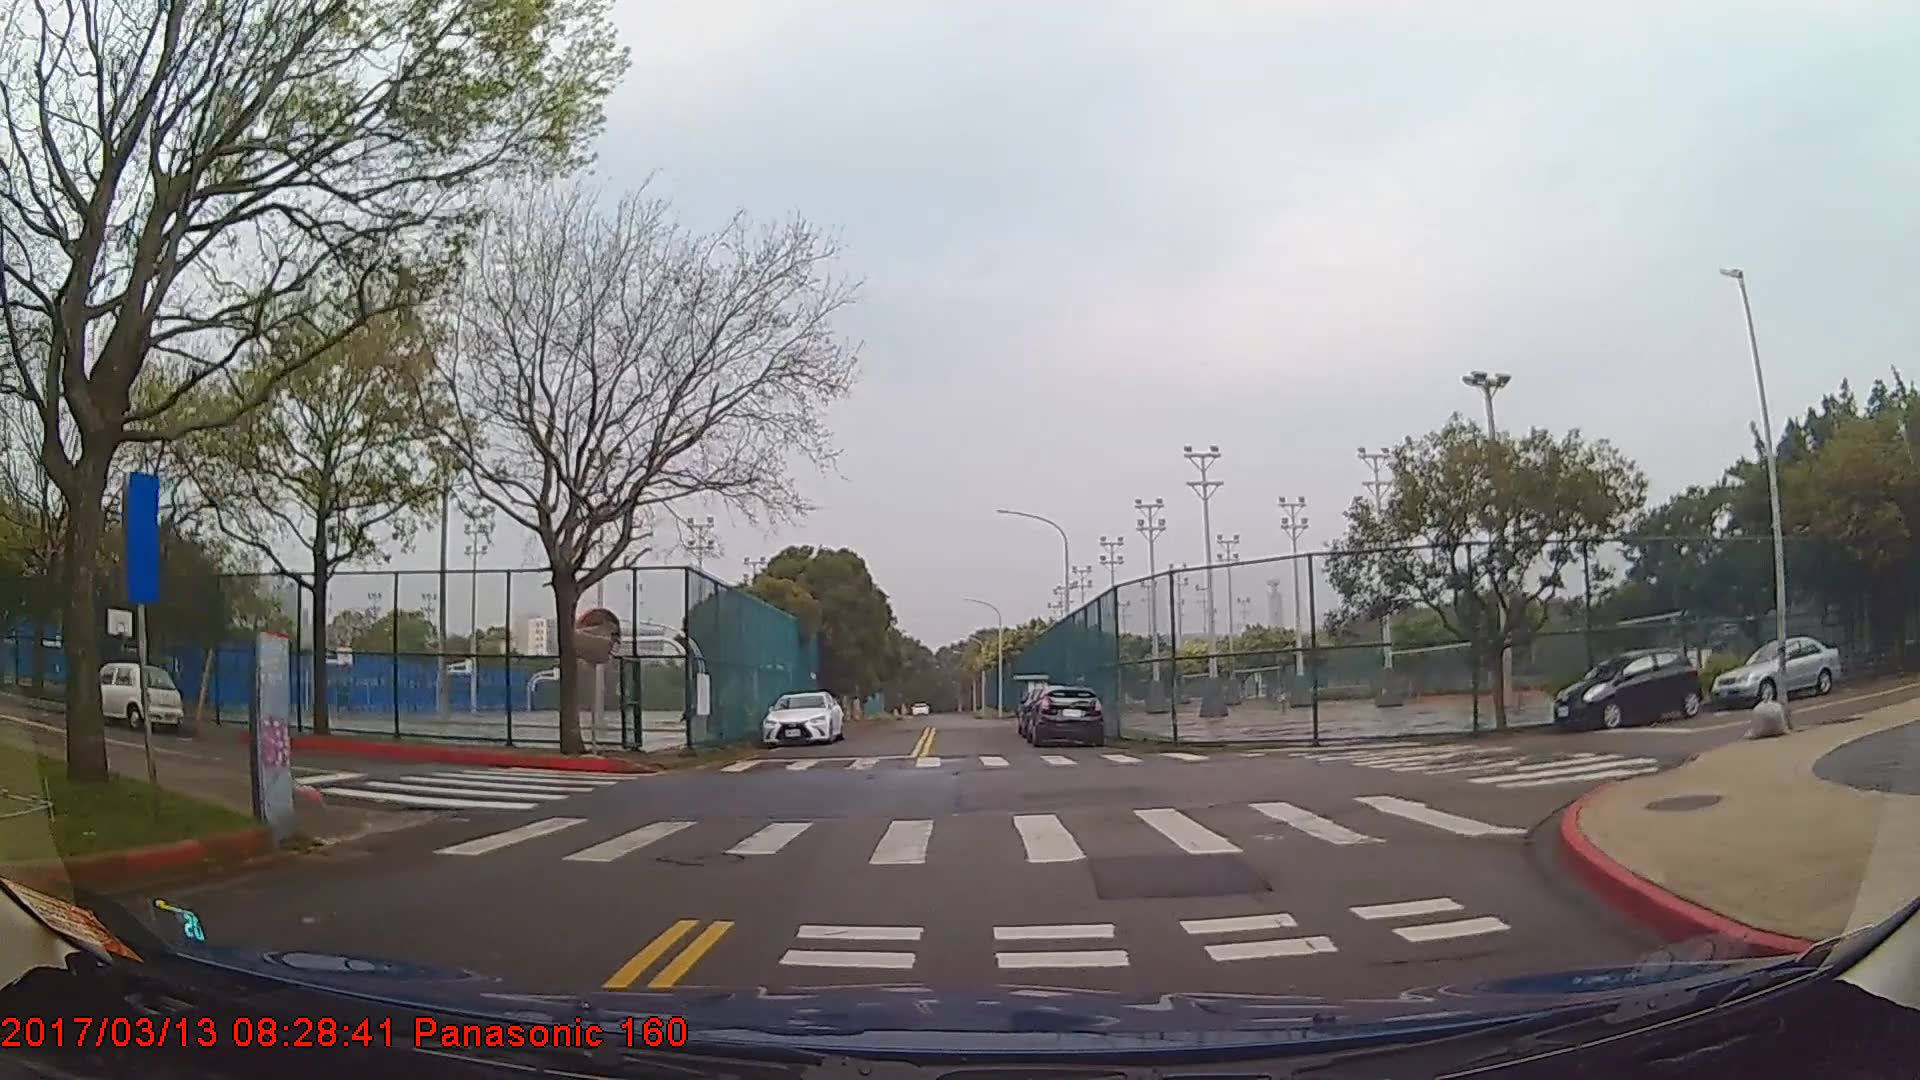vehicle: (1553, 647, 1702, 732), (1709, 638, 1841, 705), (73, 659, 182, 727), (1025, 686, 1102, 749), (762, 690, 844, 746)
